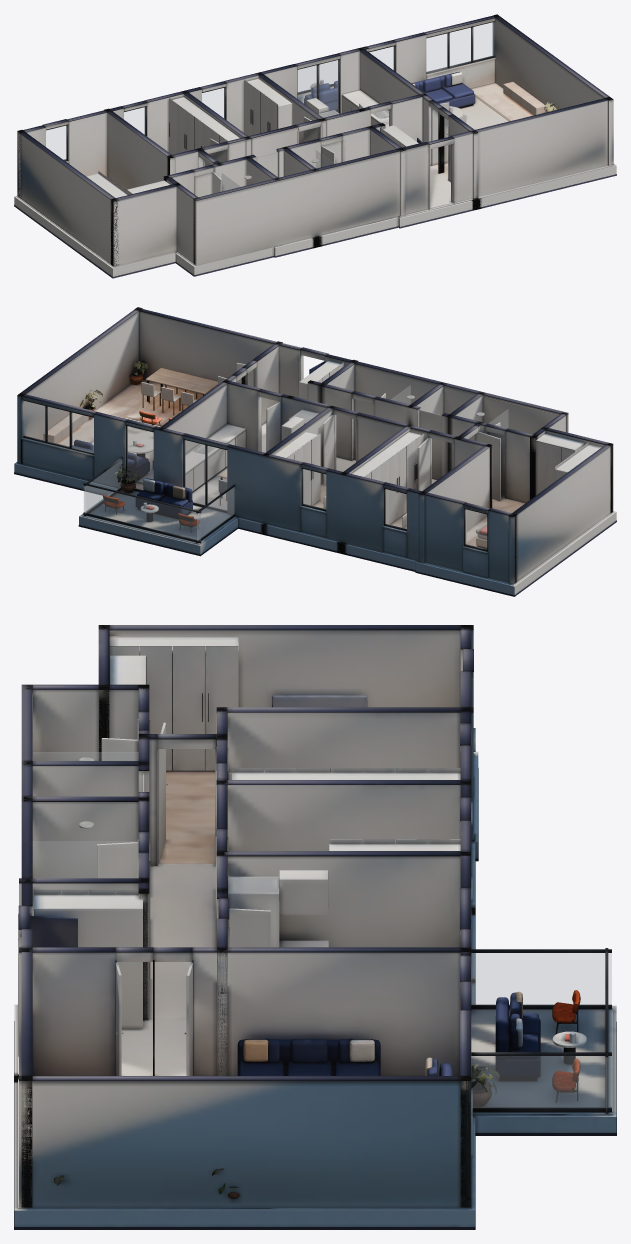
The picture shows the model from 3 angles, top to bottom: view 1: azimuth 30°, elevation 25°; view 2: azimuth 150°, elevation 25°; view 3: azimuth 270°, elevation 25°; orthographic projection. The views are drawn at different scales.
Parts seen in each view (by area): view 1: plan, glass5_m, glass3_m, railg0_m, glass0_m, glass2_m, glass1_m; view 2: plan, railg0_m, glass5_m, glass3_m, glass4_m, railg4_m, railg5_m, glass2_m, glass0_m, glass1_m; view 3: plan, railg5_m, railg4_m, sg.001_m, sg_m.
Part boxes in pixels (x1,y1,x2,y2): plan: (14, 14, 616, 278); glass5_m: (426, 22, 493, 71); glass3_m: (298, 60, 338, 112); railg0_m: (298, 60, 337, 91); glass0_m: (46, 126, 66, 159); glass2_m: (202, 88, 224, 118); glass1_m: (124, 107, 145, 134); plan: (14, 307, 616, 596); railg0_m: (84, 486, 200, 540); glass5_m: (24, 401, 93, 452); glass3_m: (185, 440, 226, 510); glass4_m: (127, 426, 153, 489); railg4_m: (197, 487, 234, 540); railg5_m: (85, 460, 121, 513); glass2_m: (303, 469, 325, 509); glass0_m: (465, 509, 486, 549); glass1_m: (385, 489, 406, 529); plan: (14, 625, 616, 1229); railg5_m: (471, 1056, 611, 1107); railg4_m: (471, 953, 611, 1004); sg.001_m: (33, 841, 136, 877); sg_m: (33, 752, 138, 760).
Size of the model in its own units: 17.52 by 2.62 by 9.72.
2 materials, 1 textured.
